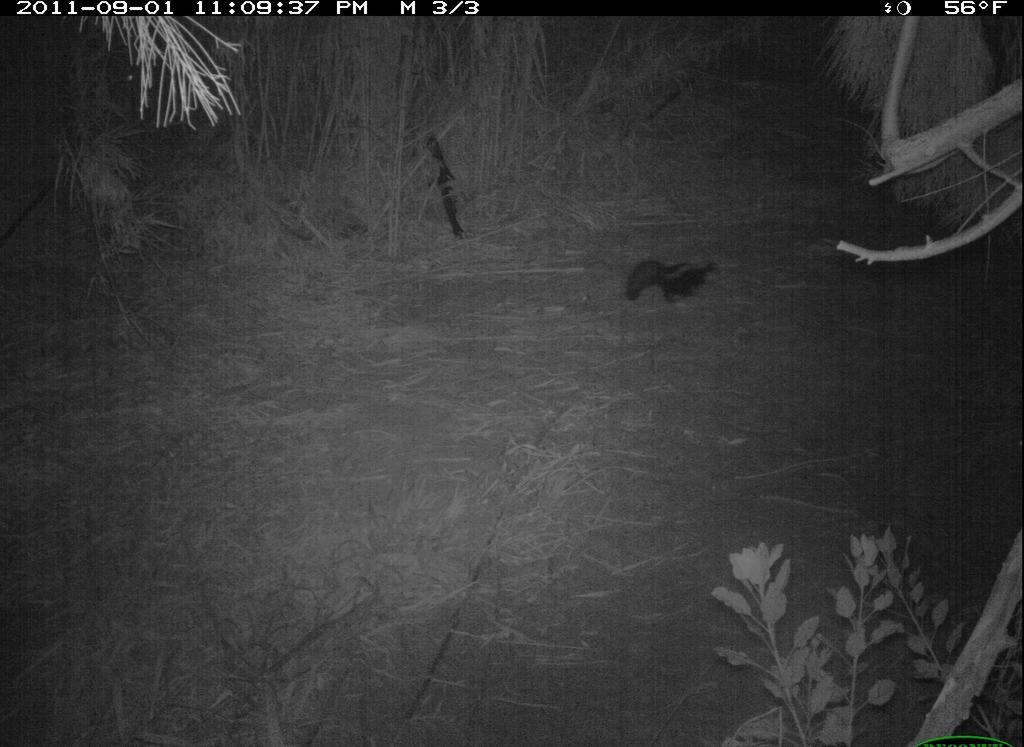skunk: (617, 246, 726, 317)
